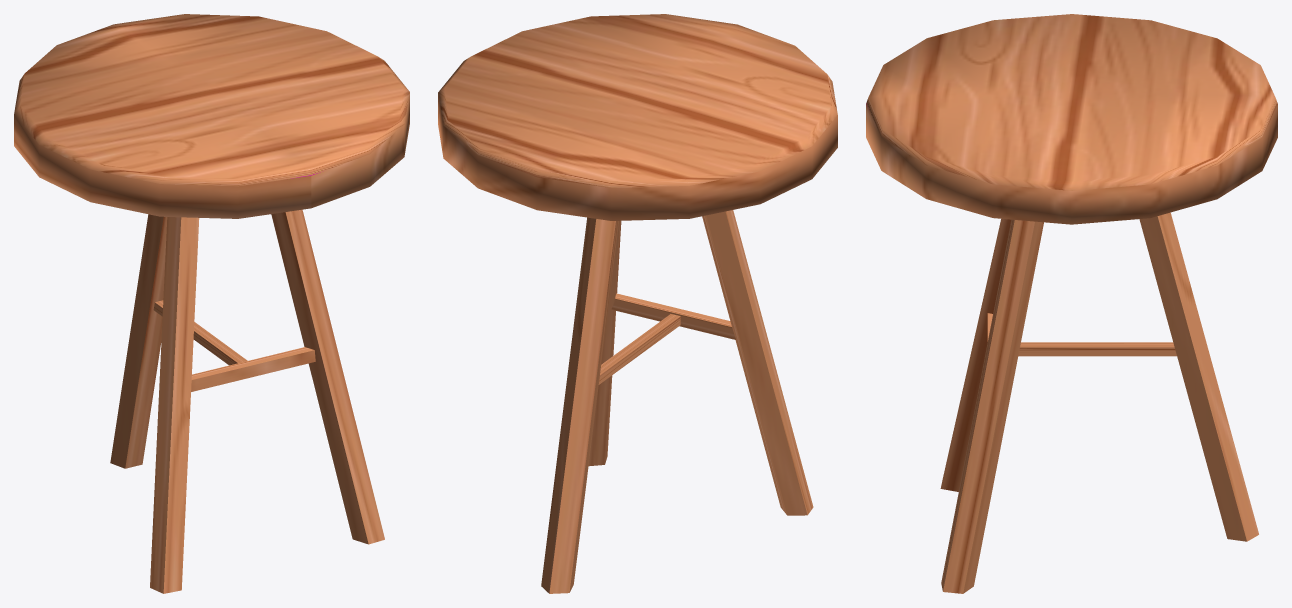
Rendered from Chair3.fbx.
3 renders of one model, left to right at view 1: azimuth 30°, elevation 25°; view 2: azimuth 150°, elevation 25°; view 3: azimuth 270°, elevation 25°, orthographic. The views are drawn at different scales.
Parts seen in each view (by area): view 1: Chair3; view 2: Chair3; view 3: Chair3.
Boxes of the visible parts, bbox=[...] form: Chair3: bbox=[14, 14, 409, 593]; Chair3: bbox=[438, 14, 837, 593]; Chair3: bbox=[866, 14, 1277, 593].
Bounding box in the file's own units: 463 × 463 × 547.
